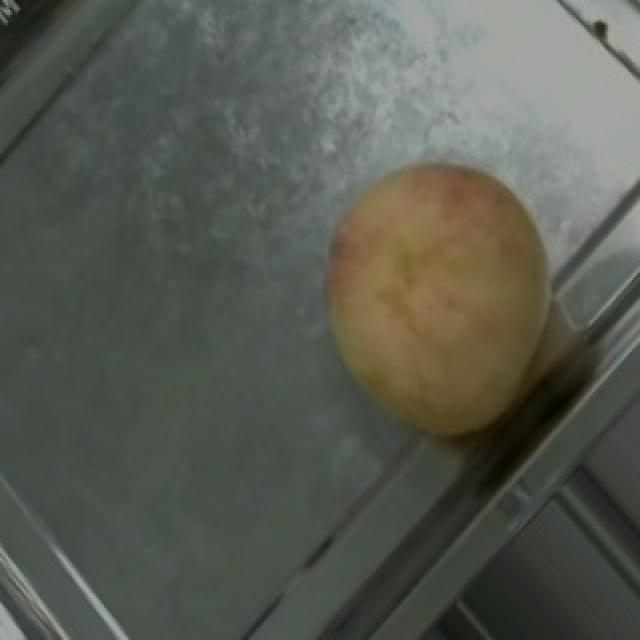Fruit: (278, 119, 606, 481)
